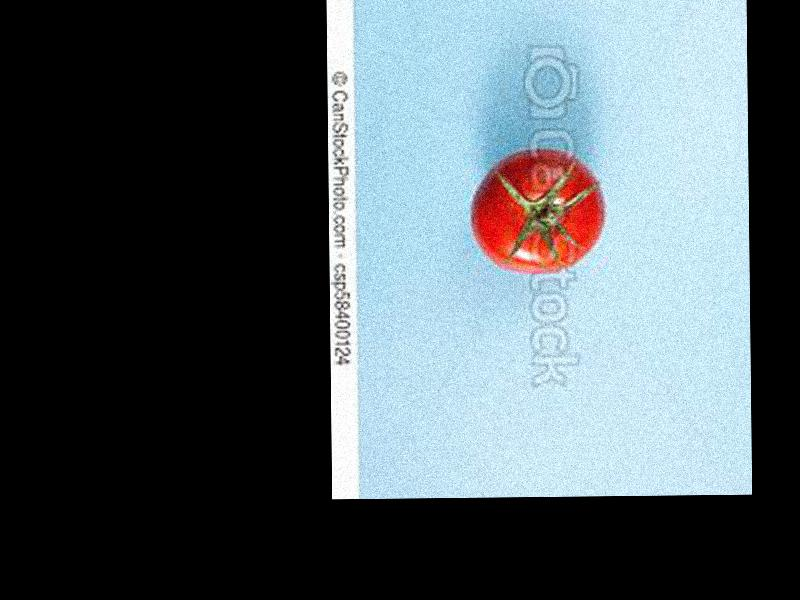Tomato: (467, 151, 604, 272)
